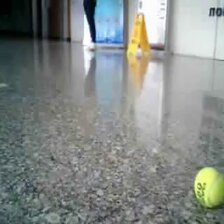tennis: (195, 167, 224, 210)
